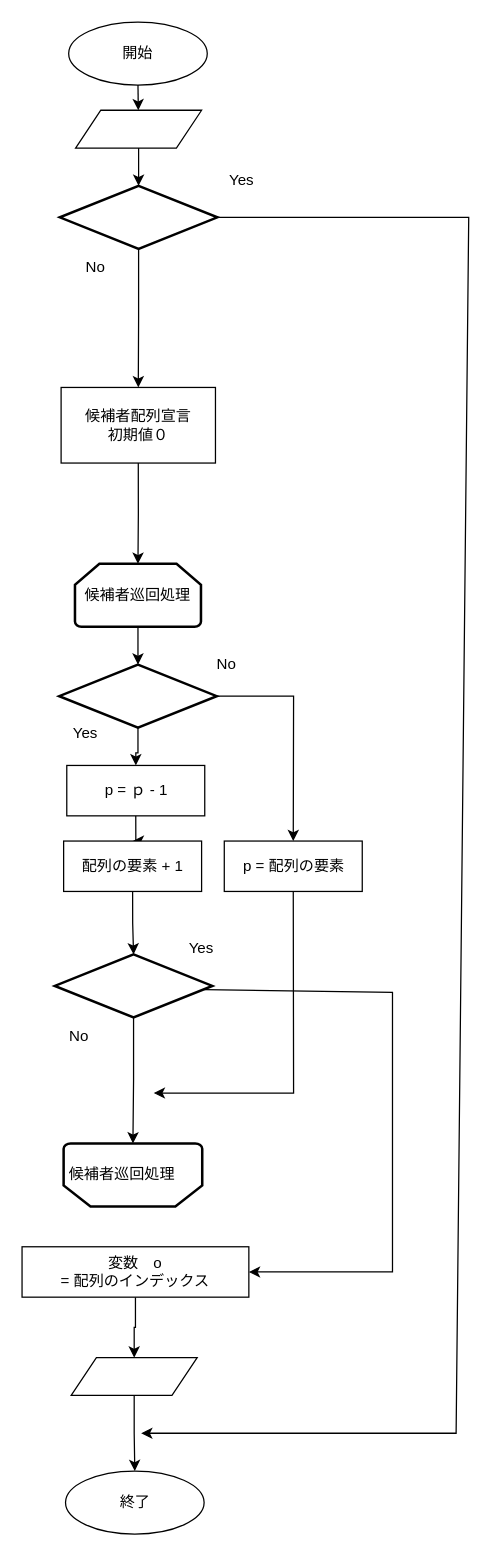
The diagram is 501 pixels wide and 1556 high, and some of its shapes have lost their labels. The centre of each missing label's shape, as x and y in pixels:
"input：ｎ ｐ" belongs at point (138, 128).
"n,p＝0" belongs at point (138, 216).
"output：o" belongs at point (133, 1375).
"p >０" belongs at point (137, 695).
"配列の要素 = p" belongs at point (133, 985).
